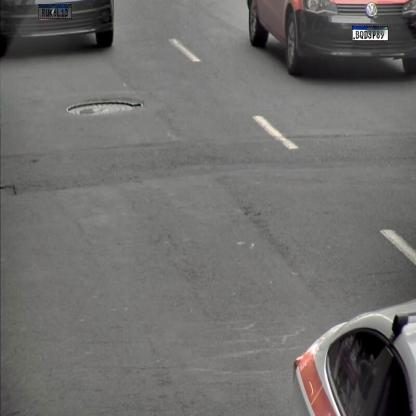PlacaM: (352, 26, 388, 41), (38, 4, 72, 19)
